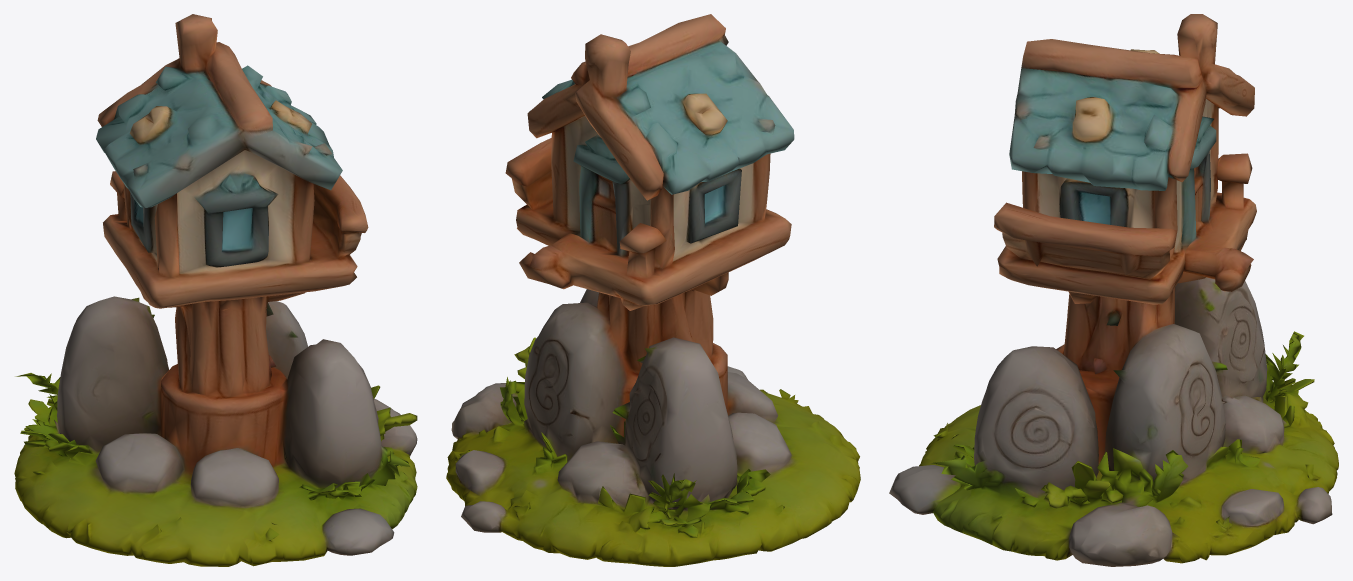
The model's file is moss-guardian-stone.glb.
3 renders of one model, left to right at view 1: azimuth 30°, elevation 25°; view 2: azimuth 150°, elevation 25°; view 3: azimuth 270°, elevation 25°, orthographic. The views are drawn at different scales.
Visible parts, largest first — view 1: tripo_node_89bb0221-e8a7-460f-8f37-fa647904c226; view 2: tripo_node_89bb0221-e8a7-460f-8f37-fa647904c226; view 3: tripo_node_89bb0221-e8a7-460f-8f37-fa647904c226.
Part boxes in pixels (x1,y1,x2,y2): tripo_node_89bb0221-e8a7-460f-8f37-fa647904c226: (14,14,417,566); tripo_node_89bb0221-e8a7-460f-8f37-fa647904c226: (446,14,860,566); tripo_node_89bb0221-e8a7-460f-8f37-fa647904c226: (889,14,1338,566).
Bounding box in the file's own units: 2.55 × 3 × 2.62.
Materials: 1 (1 with a texture image).
